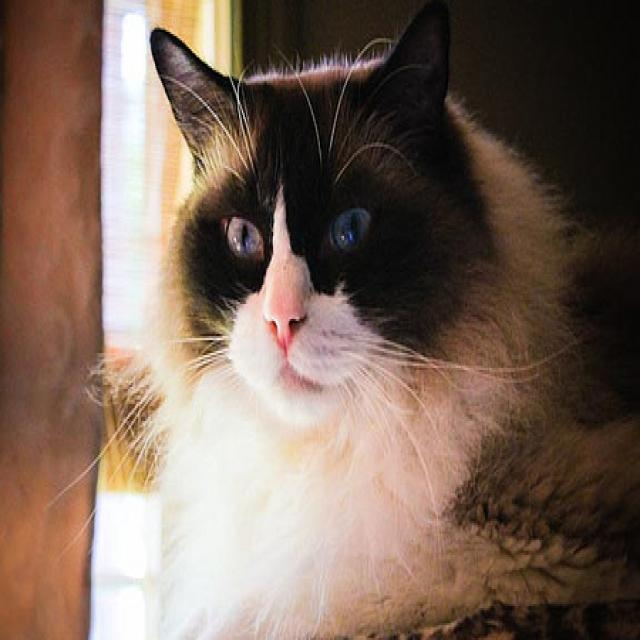Ragdoll: (145, 0, 640, 640)
